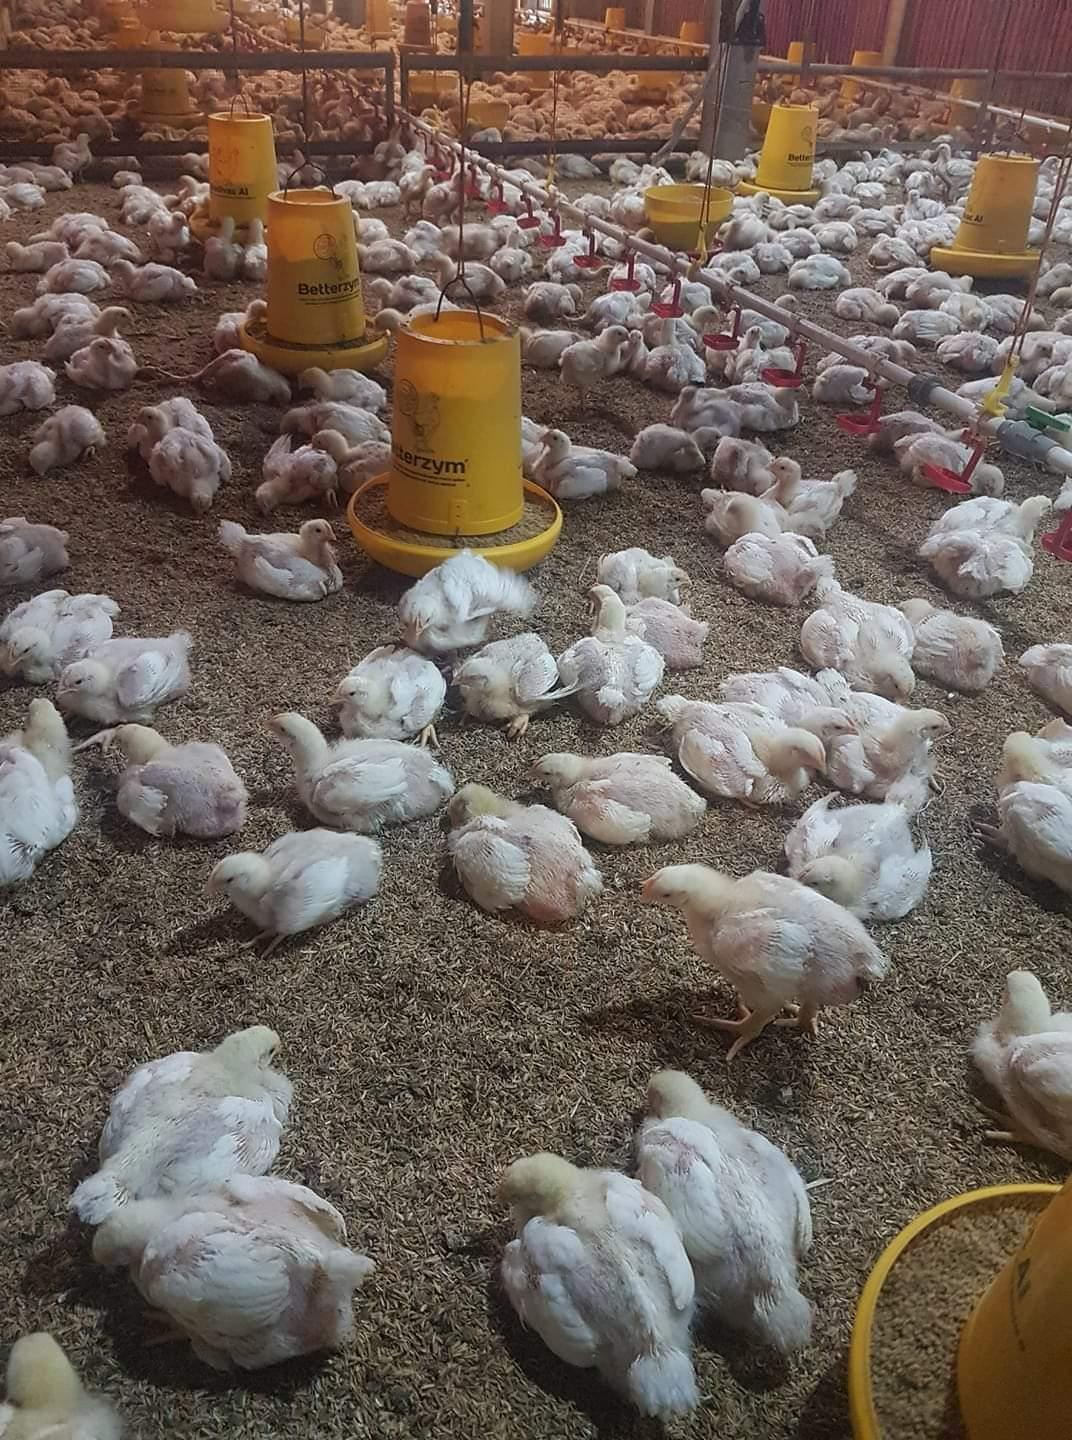chicken: (490, 1147, 697, 1439), (635, 1065, 816, 1375), (90, 1175, 370, 1362), (645, 860, 887, 1052), (79, 1020, 297, 1222), (268, 703, 449, 826), (796, 768, 930, 919), (450, 785, 602, 918), (213, 835, 390, 942), (662, 692, 824, 807), (530, 742, 703, 849), (115, 721, 245, 848), (824, 670, 953, 789), (55, 625, 203, 724), (920, 494, 1054, 594), (565, 594, 667, 725), (804, 575, 910, 690), (215, 512, 345, 599), (0, 590, 127, 678), (408, 551, 520, 645), (461, 628, 560, 733), (589, 584, 712, 668), (895, 598, 1002, 691), (725, 671, 859, 745), (343, 645, 443, 739), (726, 533, 834, 606), (535, 428, 635, 498), (150, 429, 232, 513), (767, 458, 860, 526), (259, 436, 340, 509), (29, 409, 107, 474), (131, 397, 213, 456), (598, 549, 689, 601), (561, 327, 629, 395), (313, 428, 395, 477)
